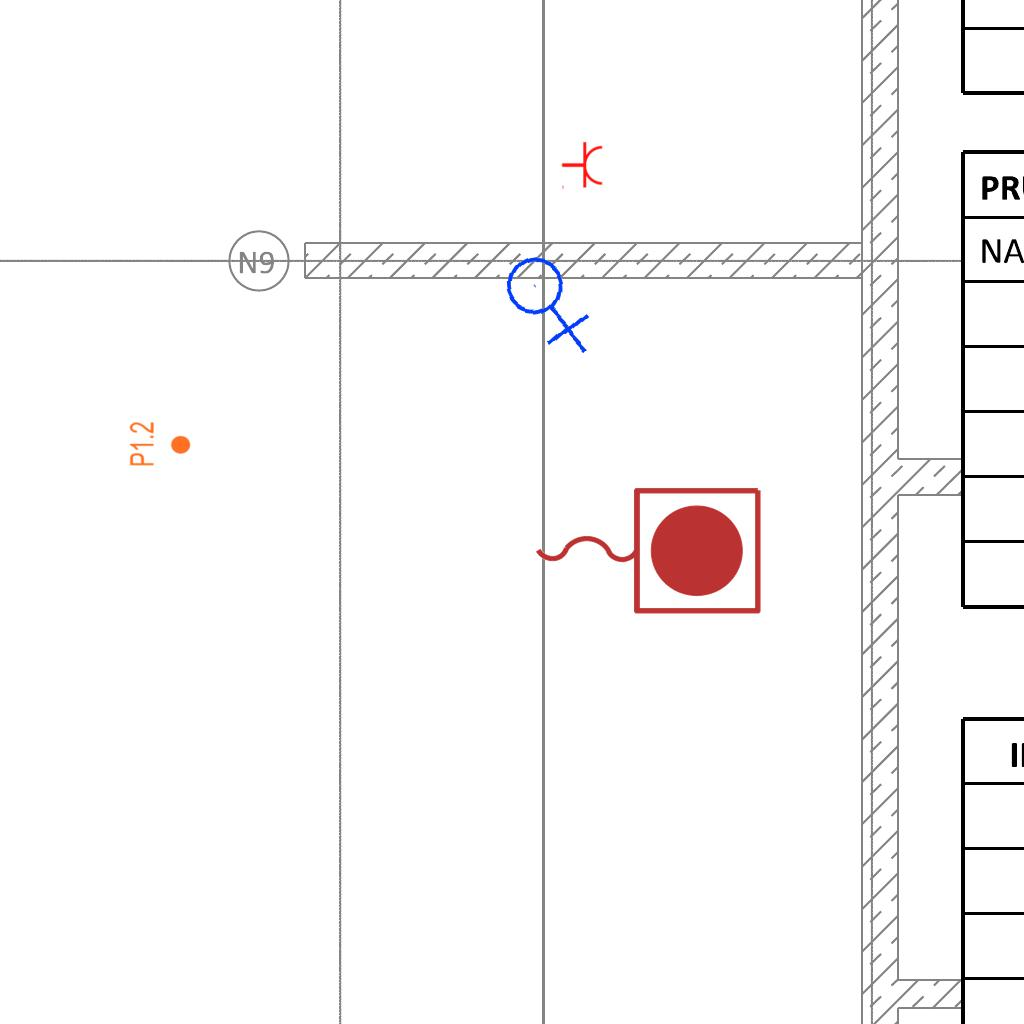Downlight_LED_Einbauleuchten_Flur: (128, 421, 192, 467)
Elektroanschluss_allgemein_230V_Geraeteanschlussdose_230V: (497, 245, 604, 355)
Schukosteckdose_einfach: (561, 141, 604, 191)
Zugtaster: (525, 477, 769, 621)
